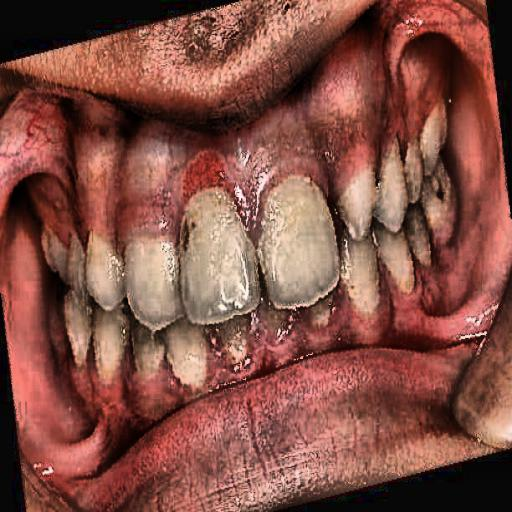Gingivitis: (26, 94, 249, 246), (267, 51, 433, 182)
